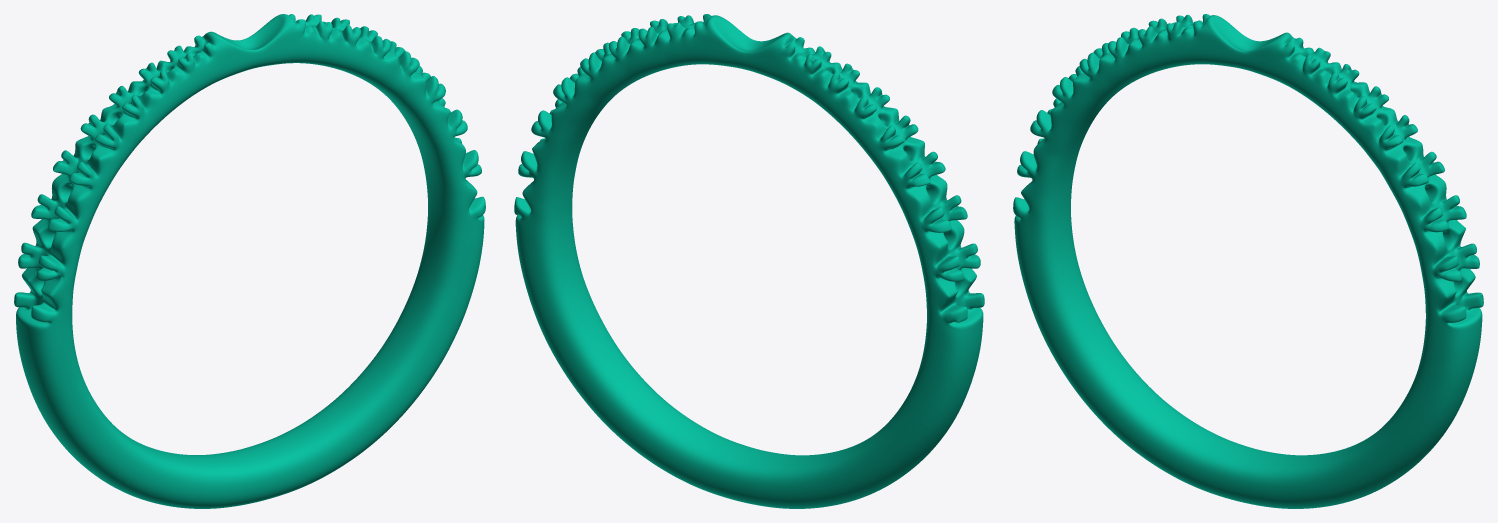
File: Shank_Pinch_French Pave_A_No, Hidden Halo_Band.glb
The picture shows the model from 3 angles, left to right: view 1: azimuth 30°, elevation 25°; view 2: azimuth 150°, elevation 25°; view 3: azimuth 330°, elevation 25°; orthographic projection.
Bounding box in the file's own units: 0.0213 × 0.0211 × 0.00244.
